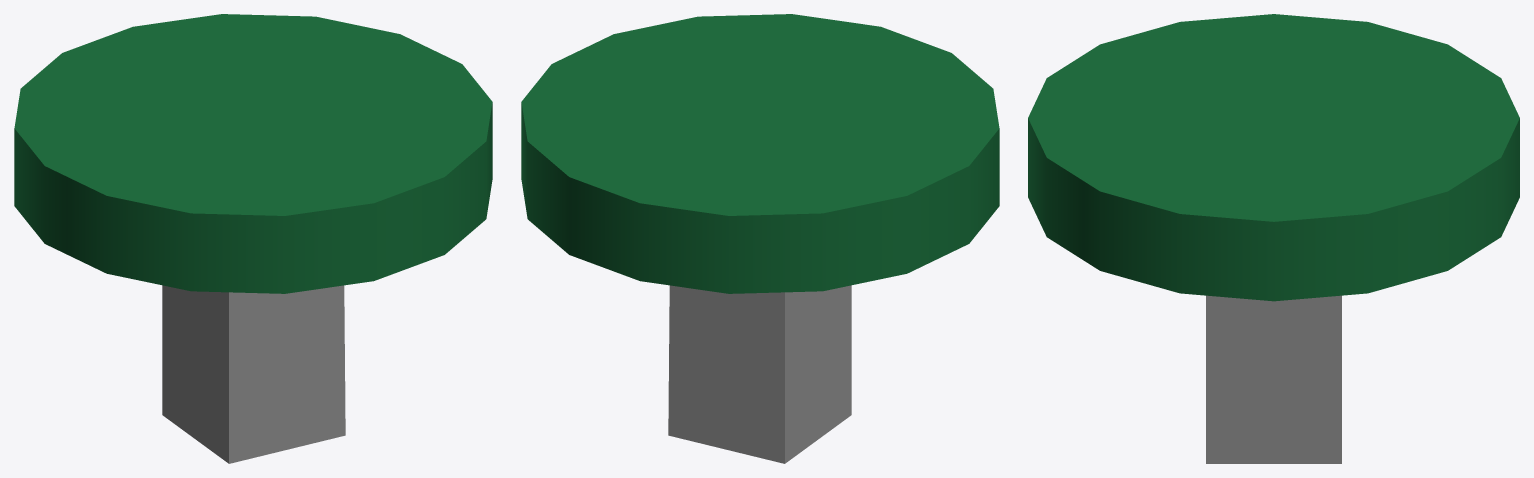
Rendered from table_04.fbx.
The picture shows the model from 3 angles, left to right: view 1: azimuth 30°, elevation 25°; view 2: azimuth 150°, elevation 25°; view 3: azimuth 270°, elevation 25°; orthographic projection. The views are drawn at different scales.
Parts seen in each view (by area): view 1: table_04; view 2: table_04; view 3: table_04.
Part boxes in pixels (box(x1,y1,x2,y2)): table_04: box(14, 14, 492, 463); table_04: box(521, 14, 999, 463); table_04: box(1028, 14, 1519, 463).
Size of the model in its own units: 85.93 by 61.06 by 85.93.
